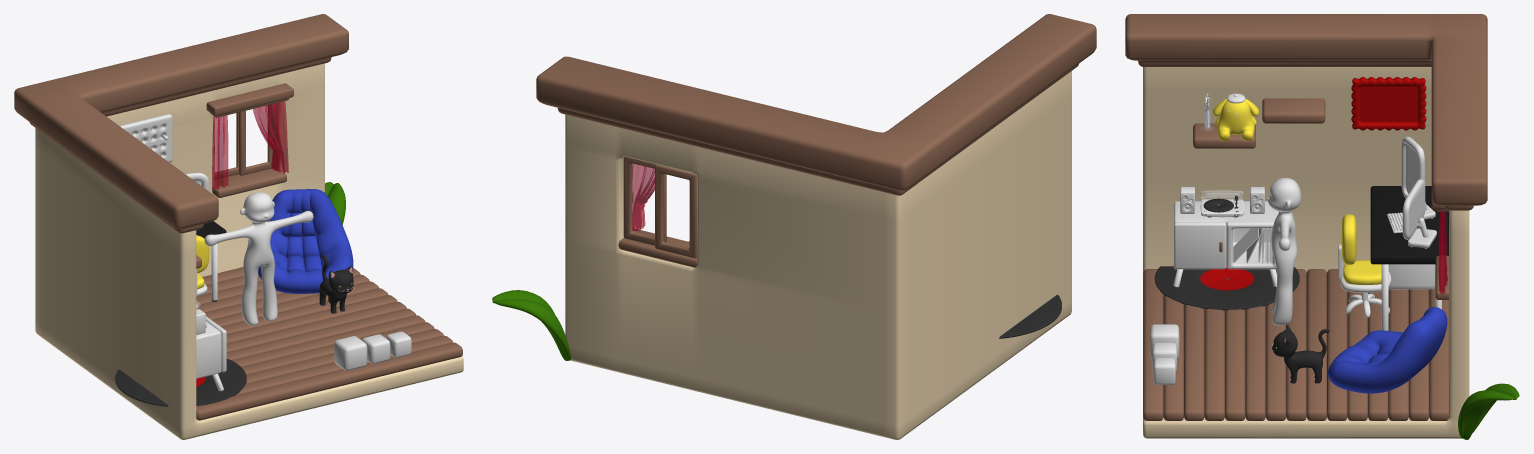
File: Habitacion3D.glb
The picture shows the model from 3 angles, left to right: view 1: azimuth 30°, elevation 25°; view 2: azimuth 150°, elevation 25°; view 3: azimuth 270°, elevation 25°; orthographic projection. The views are drawn at different scales.
Visible parts, largest first — view 1: Base.001, Arriba, Suelo, Chair, MIPERSONAJE, Acolchado.001, Plane.002, ArribaVentana, Pegboard, AbajoVentana, Base, Plane.003 (+6 smaller); view 2: Base.001, Arriba, Marco, Plane.001, Marco.001, Plane.002, AbajoVentana, Acolchado.001; view 3: Base.001, Suelo, Arriba, Chair, Acolchado.001, Tabla, Plane, MIPERSONAJE, Base, Cube.016, Puerta, GATO (+17 smaller).
Boxes of the visible parts, x1,y1,x2,y2 form: Base.001: (35, 63, 463, 439); Arriba: (14, 14, 348, 233); Suelo: (196, 267, 462, 420); Chair: (258, 189, 353, 293); MIPERSONAJE: (204, 192, 313, 325); Acolchado.001: (115, 358, 246, 406); Plane.002: (253, 101, 288, 173); ArribaVentana: (206, 83, 293, 117); Pegboard: (119, 114, 172, 162); AbajoVentana: (212, 168, 286, 197); Base: (196, 309, 221, 378); Plane.003: (212, 115, 228, 188); Base.001: (565, 71, 1071, 439); Arriba: (536, 14, 1096, 195); Marco: (655, 164, 696, 258); Plane.001: (492, 290, 571, 360); Marco.001: (623, 156, 666, 245); Plane.002: (632, 163, 654, 230); AbajoVentana: (618, 229, 697, 267); Acolchado.001: (999, 294, 1061, 338); Base.001: (1143, 67, 1469, 438); Suelo: (1143, 269, 1449, 420); Arriba: (1125, 14, 1487, 210); Chair: (1328, 307, 1447, 393); Acolchado.001: (1154, 266, 1299, 310); Tabla: (1370, 186, 1448, 264); Plane: (1351, 77, 1426, 130); MIPERSONAJE: (1267, 177, 1301, 325); Base: (1174, 201, 1278, 269); Cube.016: (1193, 98, 1325, 148); Puerta: (1174, 222, 1226, 269); GATO: (1272, 324, 1329, 383).
Size of the model in its own units: 3.26 by 2.21 by 2.93.
